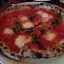basil: (30, 33, 46, 51), (49, 11, 61, 30), (13, 19, 20, 36), (20, 27, 38, 32), (29, 13, 40, 21)
pizza: (1, 3, 62, 61)
